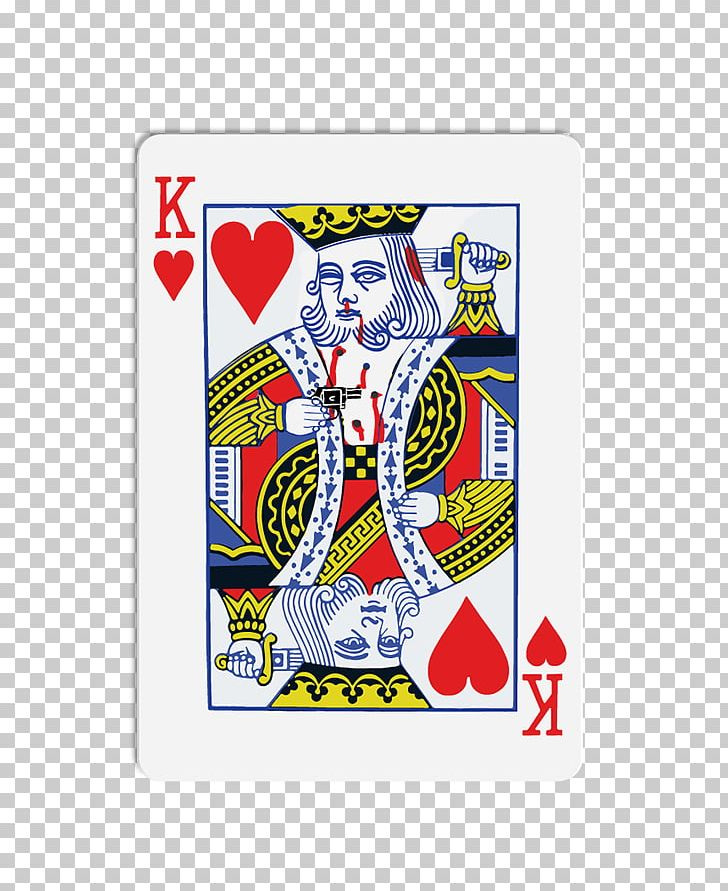king of hearts: (138, 132, 581, 785)
